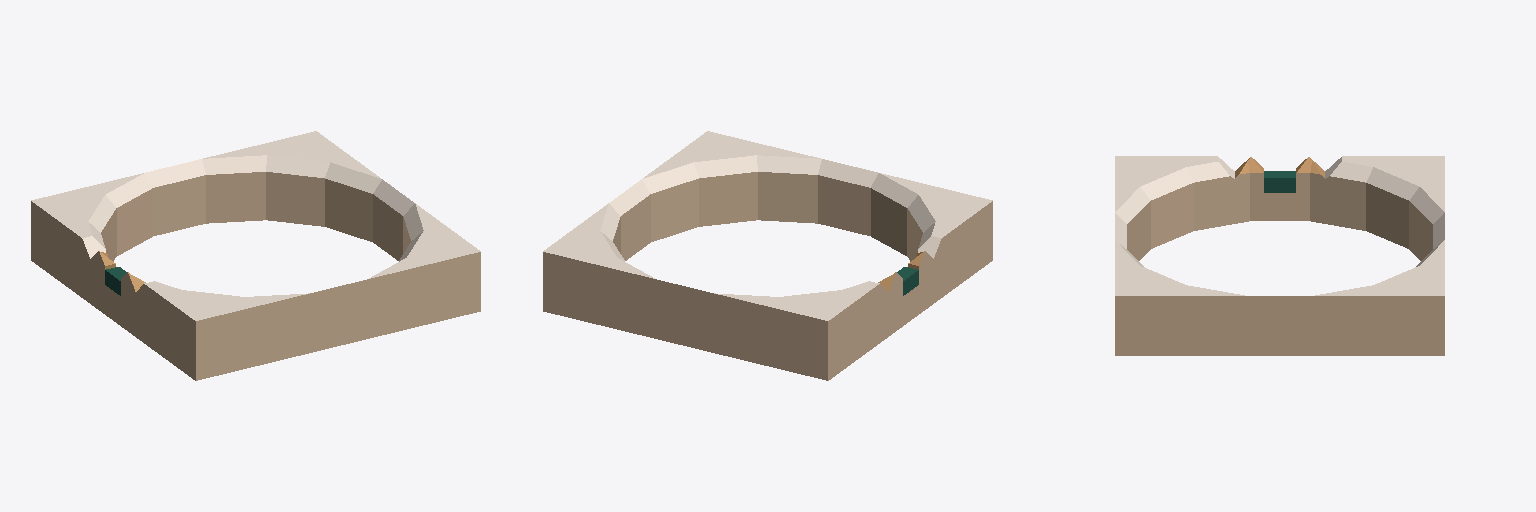
Rendered from Puzzle_Floor_Conduit_Rotating_Housing_End.obj.
3 views of the same model, side by side, from view 1: azimuth 30°, elevation 25°; view 2: azimuth 150°, elevation 25°; view 3: azimuth 270°, elevation 25° (orthographic).
Parts seen in each view (by area): view 1: object2; view 2: object2; view 3: object2, object1.
Boxes of the visible parts, x1=… form: object2: x1=31, y1=131, x2=480, y2=380; object2: x1=543, y1=131, x2=992, y2=380; object2: x1=1115, y1=156, x2=1444, y2=355; object1: x1=1264, y1=171, x2=1295, y2=192.
Size of the model in its own units: 1 by 0.2 by 1.